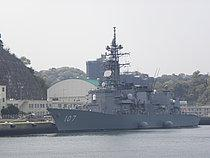MIL_Ship: (47, 24, 204, 132)
